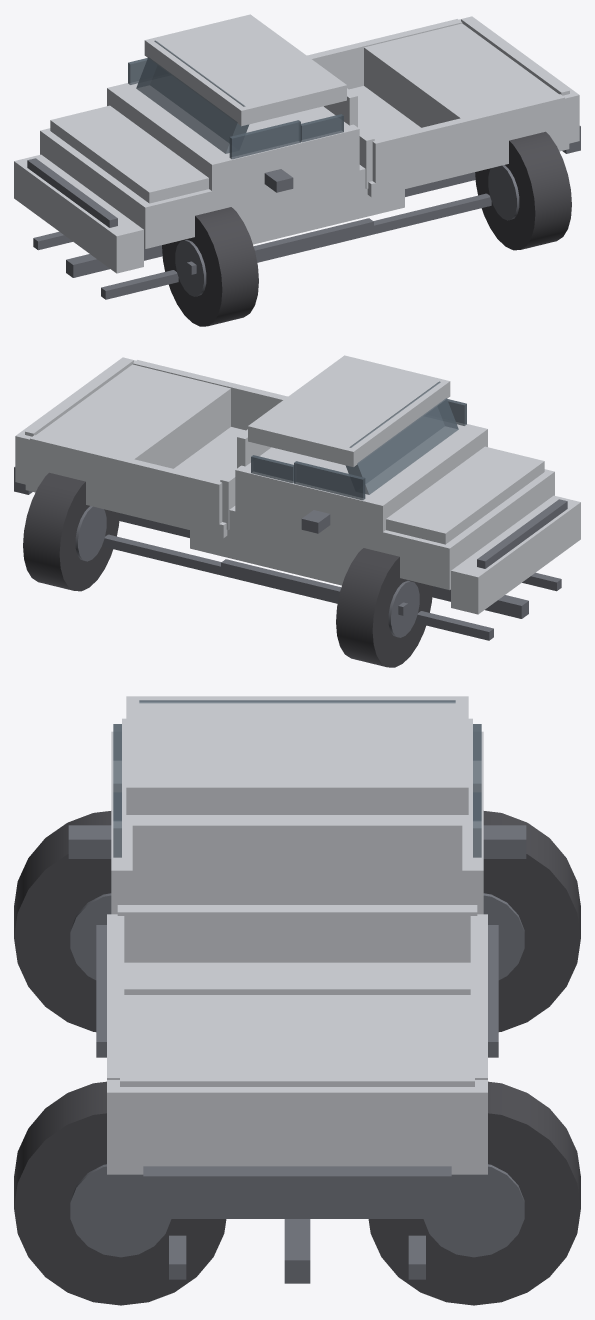
The model's file is ford-ranger.glb.
3 views of the same model, one above another, from view 1: azimuth 30°, elevation 25°; view 2: azimuth 150°, elevation 25°; view 3: azimuth 270°, elevation 25° (orthographic). The views are drawn at different scales.
Parts seen in each view (by area): view 1: Vehicle; view 2: Vehicle; view 3: Vehicle.
Boxes of the visible parts, left/top/right/bottom form: Vehicle: left=14, top=14, right=580, bottom=326; Vehicle: left=14, top=355, right=580, bottom=667; Vehicle: left=14, top=696, right=580, bottom=1305.
Size of the model in its own units: 4.51 by 1.82 by 2.65.
